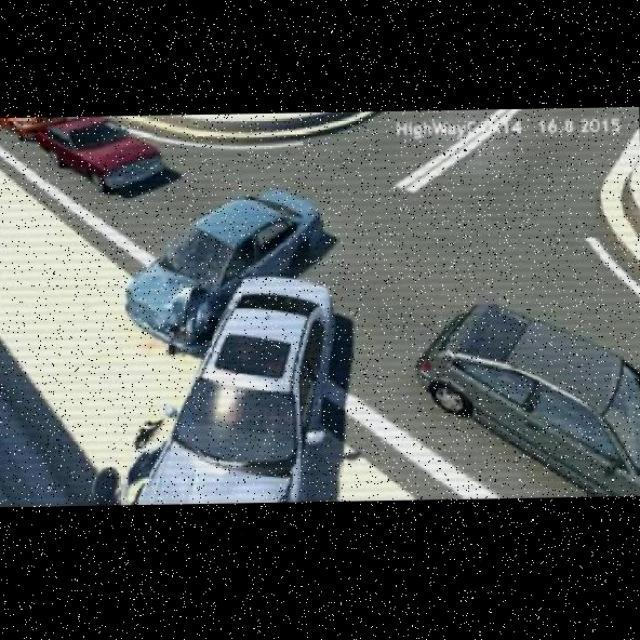accident: (109, 196, 321, 508)
